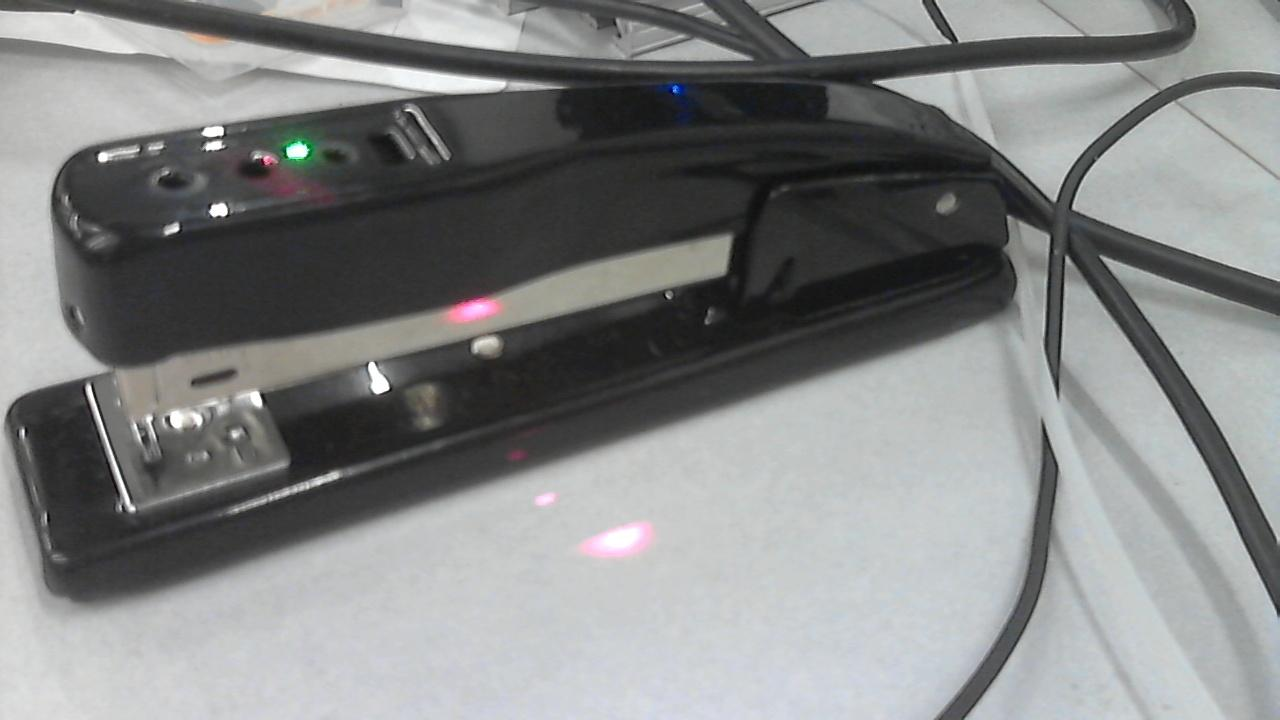object stapler - material metal - color black - Pdfname fduiadew: (232, 124, 524, 329)
